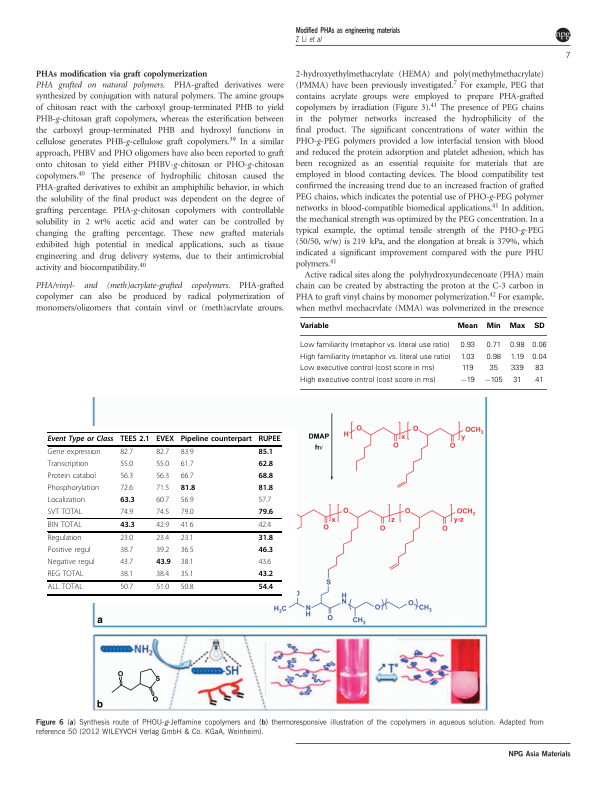borderless: (46, 431, 281, 594), (299, 316, 547, 390)
cell: (298, 353, 451, 362), (298, 341, 450, 350), (298, 376, 436, 385), (298, 364, 435, 373), (180, 435, 253, 444), (47, 435, 114, 444), (47, 448, 101, 458), (47, 484, 100, 494), (47, 472, 97, 482), (47, 558, 96, 568), (47, 546, 92, 556), (47, 460, 89, 470), (47, 496, 86, 506), (47, 570, 84, 580), (47, 521, 83, 531), (47, 534, 83, 544), (47, 584, 84, 593), (47, 508, 83, 517), (119, 435, 150, 444), (298, 322, 329, 330), (257, 435, 282, 444), (155, 435, 175, 444), (483, 376, 503, 385), (456, 322, 478, 330), (257, 534, 274, 544), (257, 546, 274, 556), (155, 558, 172, 568), (257, 570, 274, 580), (257, 448, 274, 457), (257, 460, 274, 469), (257, 472, 274, 481), (257, 484, 274, 493), (119, 496, 136, 505), (257, 508, 274, 517), (119, 521, 136, 530), (257, 584, 274, 593), (508, 341, 525, 350), (119, 448, 134, 458), (155, 448, 170, 458), (119, 460, 134, 470), (155, 460, 170, 470), (119, 472, 134, 482), (155, 472, 170, 482), (119, 484, 134, 494), (155, 484, 170, 494), (155, 496, 170, 506), (257, 496, 272, 506), (155, 521, 170, 531), (257, 521, 272, 531), (119, 534, 134, 544), (155, 534, 170, 544), (119, 546, 134, 556), (155, 546, 170, 556), (119, 558, 134, 568), (257, 558, 272, 568), (119, 570, 134, 580), (155, 570, 170, 580), (180, 484, 196, 493), (459, 341, 475, 350), (485, 341, 501, 350), (531, 341, 547, 350), (459, 353, 475, 362), (485, 353, 501, 362), (531, 353, 547, 362), (459, 376, 475, 385), (180, 448, 194, 458), (180, 460, 194, 470), (180, 472, 194, 482), (180, 496, 194, 506), (180, 521, 194, 531), (180, 534, 194, 544), (180, 546, 194, 556), (180, 558, 194, 568), (180, 570, 194, 580), (508, 322, 525, 330), (119, 508, 134, 517), (155, 508, 170, 517), (119, 584, 134, 593), (155, 584, 170, 593), (509, 353, 524, 362), (509, 364, 524, 373), (485, 322, 501, 330), (180, 508, 194, 517), (180, 584, 194, 593), (460, 364, 474, 373), (533, 322, 545, 330), (488, 364, 498, 373), (534, 364, 544, 373), (512, 376, 522, 385), (534, 376, 544, 385)
